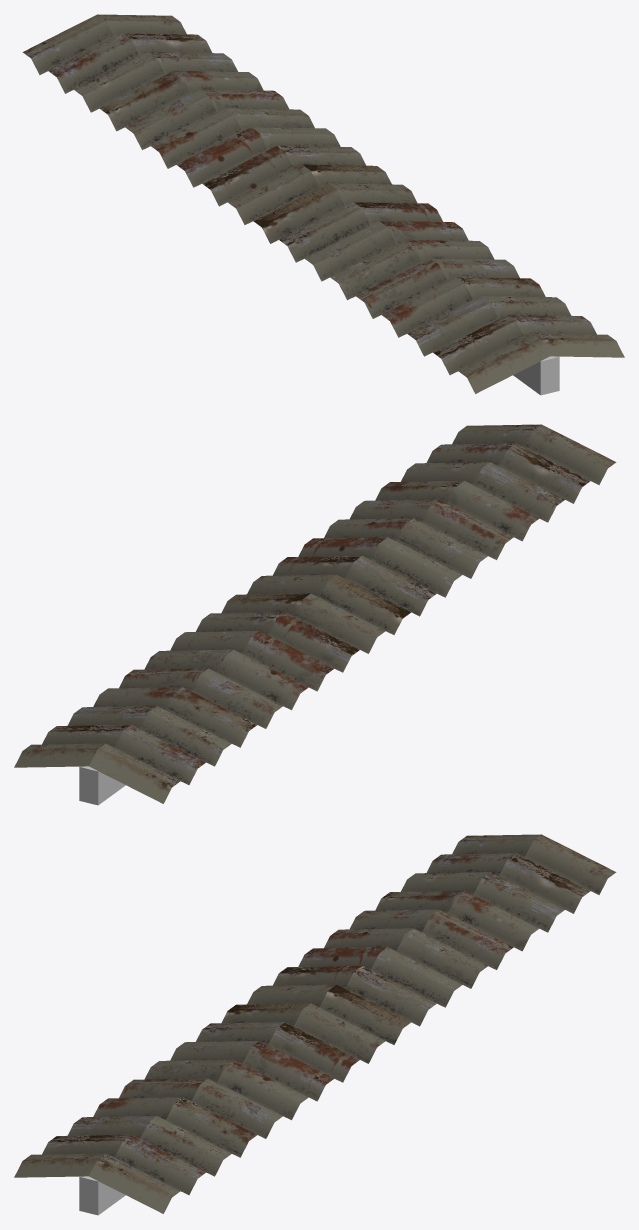
Rendered from Metal_Roof_Top.fbx.
3 views of the same model, one above another, from view 1: azimuth 30°, elevation 25°; view 2: azimuth 150°, elevation 25°; view 3: azimuth 330°, elevation 25° (orthographic).
Visible parts, largest first — view 1: Metal_Roof_Top; view 2: Metal_Roof_Top; view 3: Metal_Roof_Top.
Boxes of the visible parts, x1,y1,x2,y2 form: Metal_Roof_Top: (22, 14, 624, 395); Metal_Roof_Top: (14, 424, 616, 805); Metal_Roof_Top: (14, 834, 616, 1215).
Bounding box in the file's own units: 0.7488 × 0.2259 × 4.
